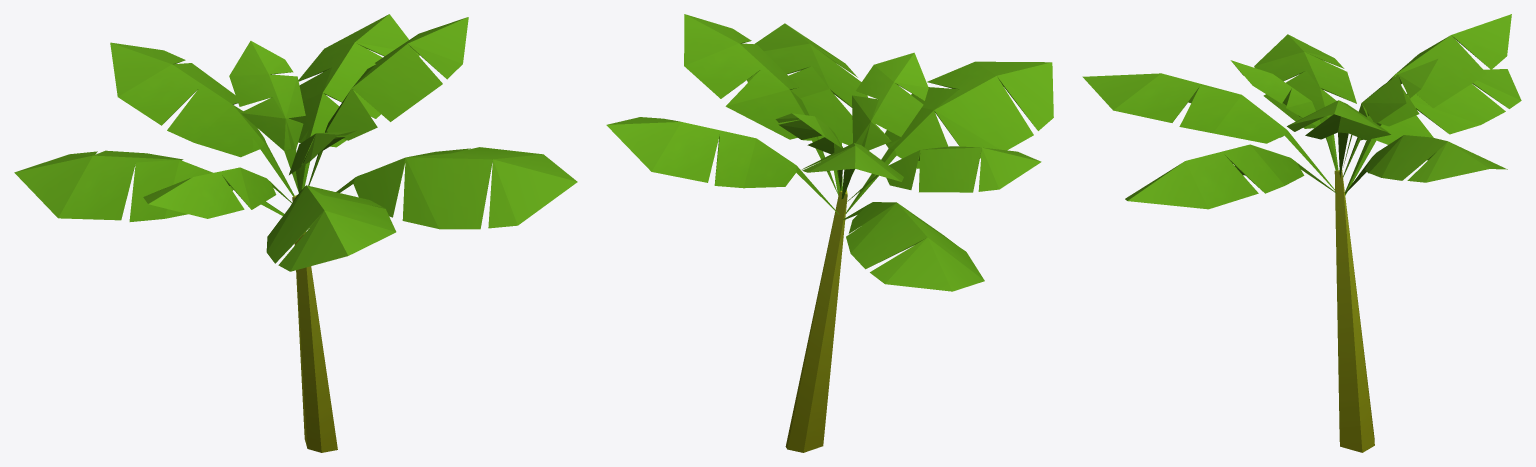
The model's file is SM_Banana_tree.fbx.
3 views of the same model, side by side, from view 1: azimuth 30°, elevation 25°; view 2: azimuth 150°, elevation 25°; view 3: azimuth 270°, elevation 25° (orthographic). The views are drawn at different scales.
Parts seen in each view (by area): view 1: Plane.013; view 2: Plane.013; view 3: Plane.013.
Boxes of the visible parts, x1,y1,x2,y2 form: Plane.013: (14, 14, 577, 452); Plane.013: (606, 14, 1053, 452); Plane.013: (1082, 14, 1521, 452).
Bounding box in the file's own units: 2.8 × 2.9 × 2.92.
